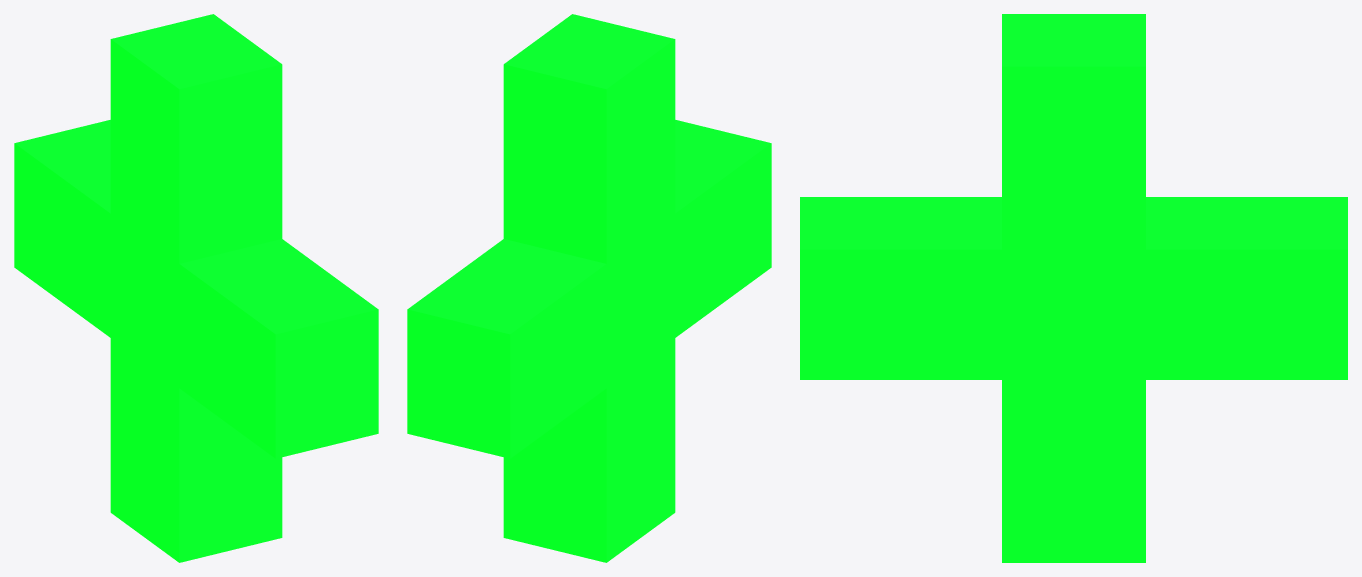
Rendered from health.fbx.
3 views of the same model, side by side, from view 1: azimuth 30°, elevation 25°; view 2: azimuth 150°, elevation 25°; view 3: azimuth 270°, elevation 25° (orthographic). The views are drawn at different scales.
Visible parts, largest first — view 1: health; view 2: health; view 3: health.
Boxes of the visible parts, box(x1,y1,x2,y2) form: health: box(14, 14, 378, 562); health: box(407, 14, 771, 562); health: box(800, 14, 1347, 562).
Size of the model in its own units: 44.39 by 195 by 195.
